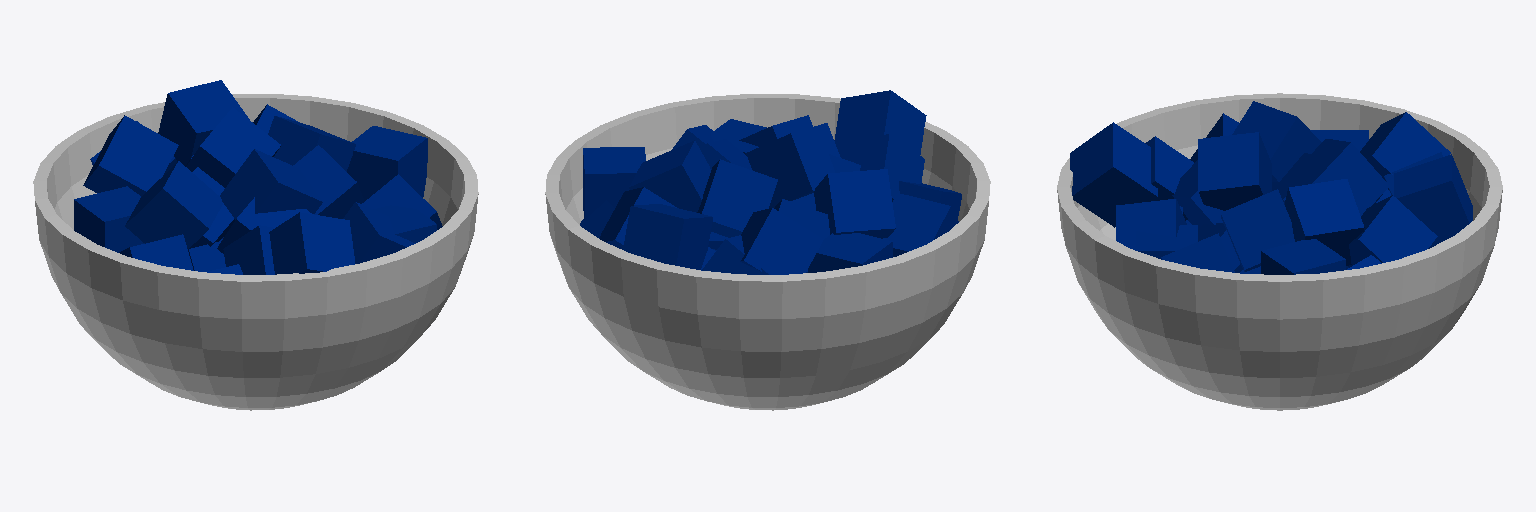
Rendered from ijs_obj.obj.
3 renders of one model, left to right at view 1: azimuth 30°, elevation 25°; view 2: azimuth 150°, elevation 25°; view 3: azimuth 270°, elevation 25°, orthographic.
Parts seen in each view (by area): view 1: Sphere, Cube.054_Cube.055, Cube.055_Cube.056, Cube.051_Cube.052, Cube.058_Cube.059, Cube.045_Cube.046, Cube.052_Cube.053, Cube.049_Cube.050, Cube.042_Cube.043, Cube.047_Cube.048, Cube.053_Cube.054, Cube.039_Cube.040 (+7 smaller); view 2: Sphere, Cube.052_Cube.053, Cube.054_Cube.055, Cube.058_Cube.059, Cube.055_Cube.056, Cube.049_Cube.050, Cube.051_Cube.052, Cube.053_Cube.054, Cube.045_Cube.046, Cube.041_Cube.042, Cube.043_Cube.044, Cube.042_Cube.043 (+10 smaller); view 3: Sphere, Cube.051_Cube.052, Cube.058_Cube.059, Cube.052_Cube.053, Cube.053_Cube.054, Cube.046_Cube.047, Cube.047_Cube.048, Cube.049_Cube.050, Cube.054_Cube.055, Cube.055_Cube.056, Cube.045_Cube.046, Cube.039_Cube.040 (+6 smaller).
Part boxes in pixels (bbox=[...]): Sphere: bbox=[33, 94, 478, 410]; Cube.054_Cube.055: bbox=[125, 161, 223, 248]; Cube.055_Cube.056: bbox=[83, 115, 178, 196]; Cube.051_Cube.052: bbox=[269, 212, 354, 274]; Cube.058_Cube.059: bbox=[220, 149, 322, 219]; Cube.045_Cube.046: bbox=[347, 126, 427, 200]; Cube.052_Cube.053: bbox=[158, 80, 249, 165]; Cube.049_Cube.050: bbox=[186, 107, 280, 187]; Cube.042_Cube.043: bbox=[74, 186, 144, 252]; Cube.047_Cube.048: bbox=[293, 145, 364, 218]; Cube.053_Cube.054: bbox=[268, 116, 355, 171]; Cube.039_Cube.040: bbox=[343, 202, 415, 263]; Sphere: bbox=[545, 94, 990, 410]; Cube.052_Cube.053: bbox=[623, 204, 712, 269]; Cube.054_Cube.055: bbox=[814, 169, 895, 238]; Cube.058_Cube.059: bbox=[746, 123, 840, 207]; Cube.055_Cube.056: bbox=[740, 208, 823, 274]; Cube.049_Cube.050: bbox=[697, 159, 777, 237]; Cube.051_Cube.052: bbox=[834, 90, 926, 154]; Cube.053_Cube.054: bbox=[629, 140, 710, 212]; Cube.045_Cube.046: bbox=[583, 147, 645, 219]; Cube.041_Cube.042: bbox=[838, 134, 924, 201]; Cube.043_Cube.044: bbox=[883, 193, 958, 256]; Cube.042_Cube.043: bbox=[808, 233, 892, 272]; Sphere: bbox=[1057, 93, 1502, 410]; Cube.051_Cube.052: bbox=[1070, 122, 1157, 227]; Cube.058_Cube.059: bbox=[1198, 132, 1271, 210]; Cube.052_Cube.053: bbox=[1394, 154, 1472, 247]; Cube.053_Cube.054: bbox=[1285, 179, 1364, 265]; Cube.046_Cube.047: bbox=[1348, 195, 1437, 267]; Cube.047_Cube.048: bbox=[1221, 189, 1294, 271]; Cube.049_Cube.050: bbox=[1285, 139, 1389, 215]; Cube.054_Cube.055: bbox=[1232, 101, 1321, 181]; Cube.055_Cube.056: bbox=[1360, 112, 1450, 189]; Cube.045_Cube.046: bbox=[1261, 239, 1345, 274]; Cube.039_Cube.040: bbox=[1116, 199, 1186, 250].
Size of the model in its own units: 2 by 1.18 by 2.